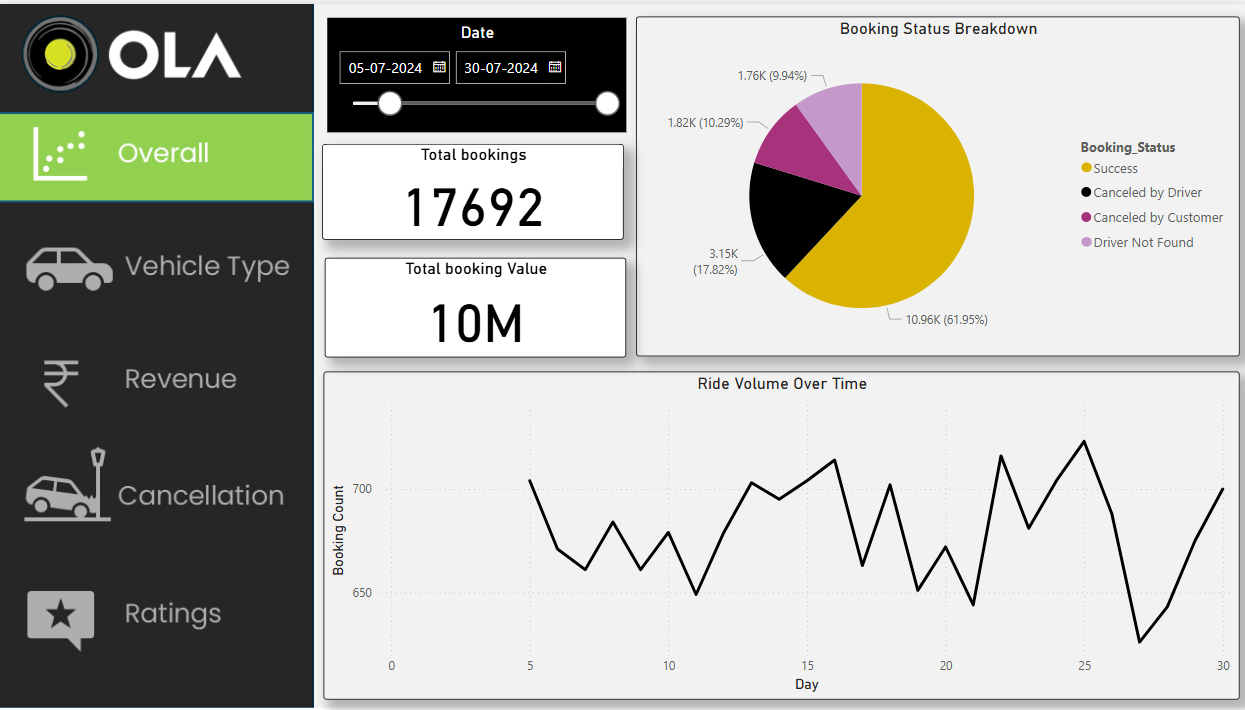

What the dashboard file says about the page in this screenshot:
{"tool":"powerbi","page":{"name":"Overall","canvas":[1280,720],"ordinal":0},"visuals":[{"type":"actionButton","box":[0,225.6,324.5,90.5],"z":0},{"type":"actionButton","box":[0,342.6,324.5,90.5],"z":1000},{"type":"actionButton","box":[0,450,324.5,90.5],"z":2000},{"type":"actionButton","box":[0,583.9,324.5,90.5],"z":3000},{"type":"lineChart","title":"Ride Volume Over Time","fields":{"Y":["CountNonNull(July.Booking_ID)"],"Category":["July.Date.Variation.Date Hierarchy.Day"]},"box":[334.2,374,933.8,334.2],"z":4000},{"type":"pieChart","title":"Booking Status Breakdown","fields":{"Category":["July.Booking_Status"],"Y":["CountNonNull(July.Booking_ID)"]},"box":[652.7,13.3,615.3,346.2],"z":5000},{"type":"slicer","title":"Date","fields":{"Values":["July.Date"]},"box":[337.6,13.7,304.6,116.6],"z":6000},{"type":"card","title":"Total bookings","fields":{"Values":["Count(July.Booking_ID)"]},"box":[332.1,142.7,307.4,97.4],"z":7000},{"type":"card","title":"Total booking Value","fields":{"Values":["Sum(July.Booking_Value)"]},"box":[334.8,258,307.4,101.5],"z":8000}]}

Visuals, with their boxes in screenshot pixels (x1, y1, x2, y2), scaled from the page's 1280x720 canvas onto the 1245x710 screenshot:
actionButton: [0,222,316,312]
actionButton: [0,338,316,427]
actionButton: [0,444,316,533]
actionButton: [0,576,316,665]
"Ride Volume Over Time" lineChart: [325,369,1233,698]
"Booking Status Breakdown" pieChart: [635,13,1233,355]
"Date" slicer: [328,14,625,128]
"Total bookings" card: [323,141,622,237]
"Total booking Value" card: [326,254,625,355]
